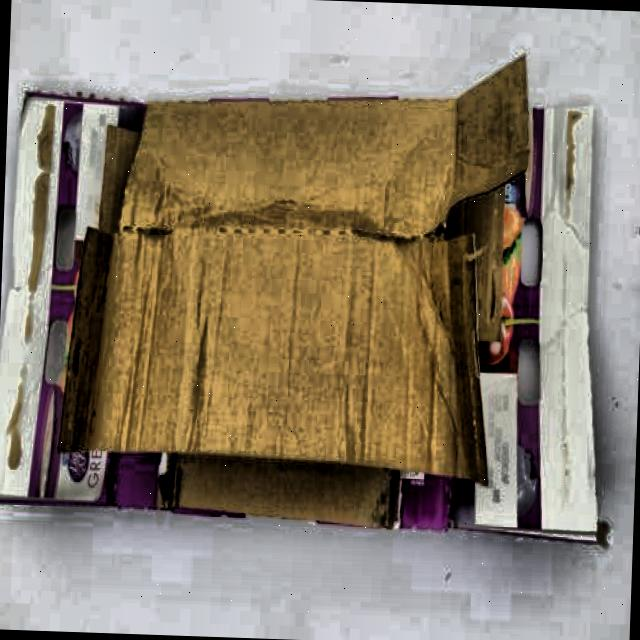cardboard: (8, 39, 628, 548)
